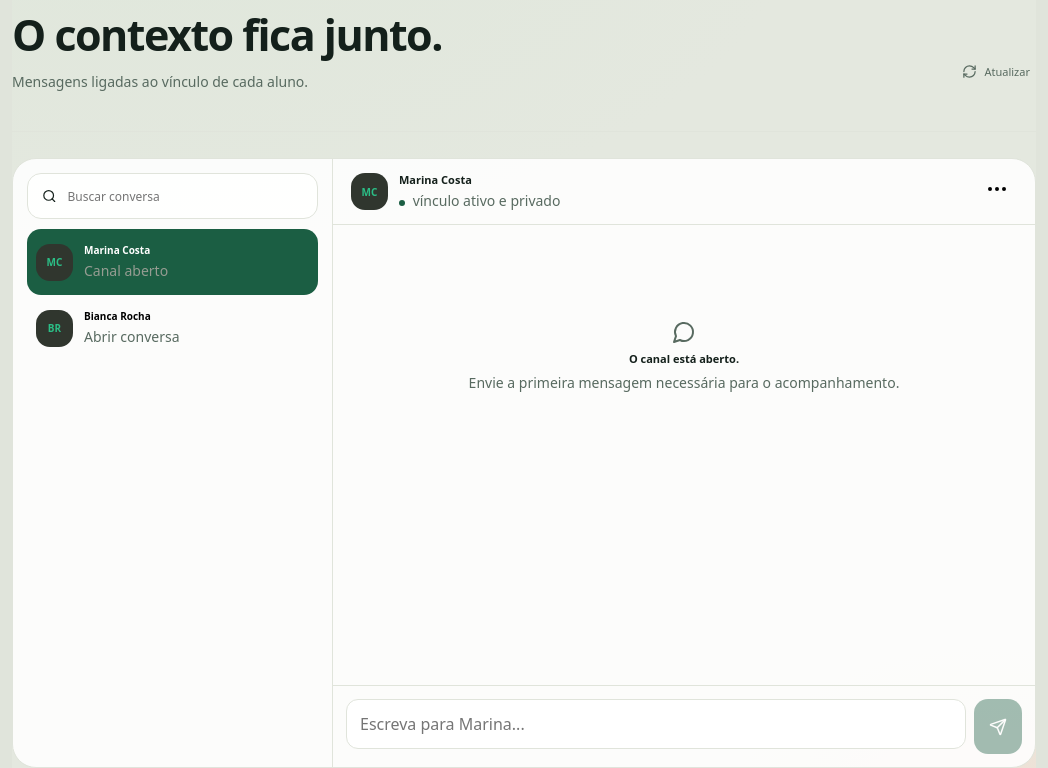
Scenario: live conversation recovery › locks every mutable conversation control while a send is pending
(page scrolled)
Step 1. Type "  Texto   com espaços  " into the text box named "Mensagem" → x=656, y=724, box [346,699,966,749]
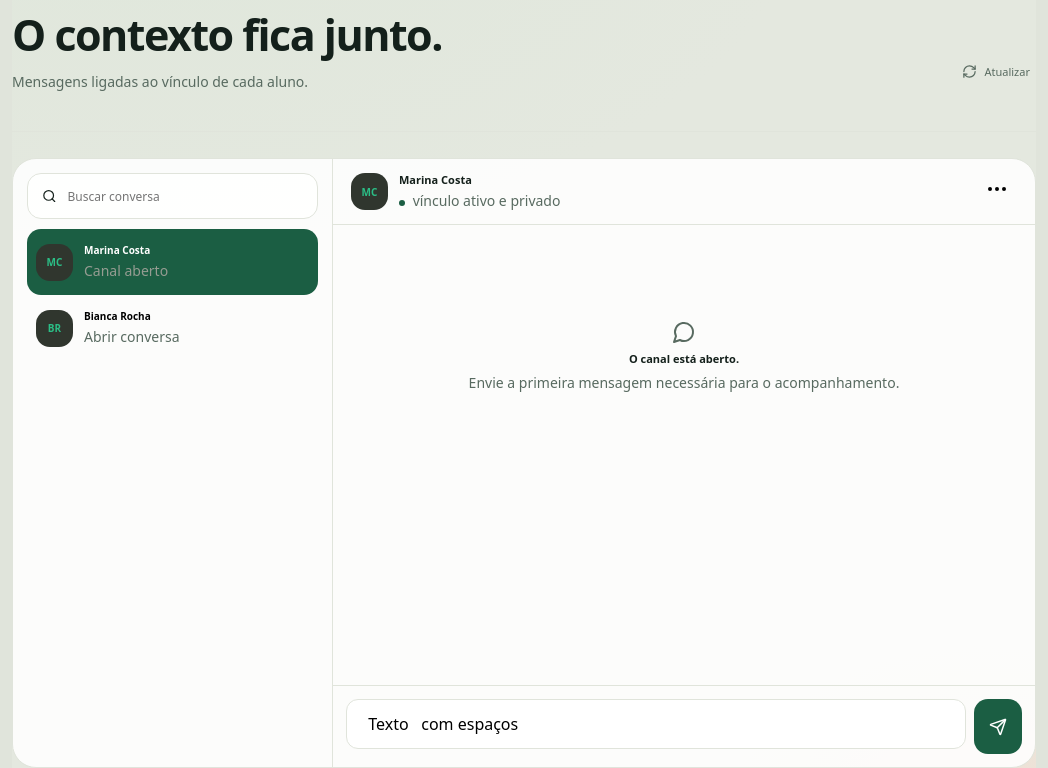
Step 2. Click the button named "Enviar mensagem" → x=998, y=726, box [974,699,1022,754]
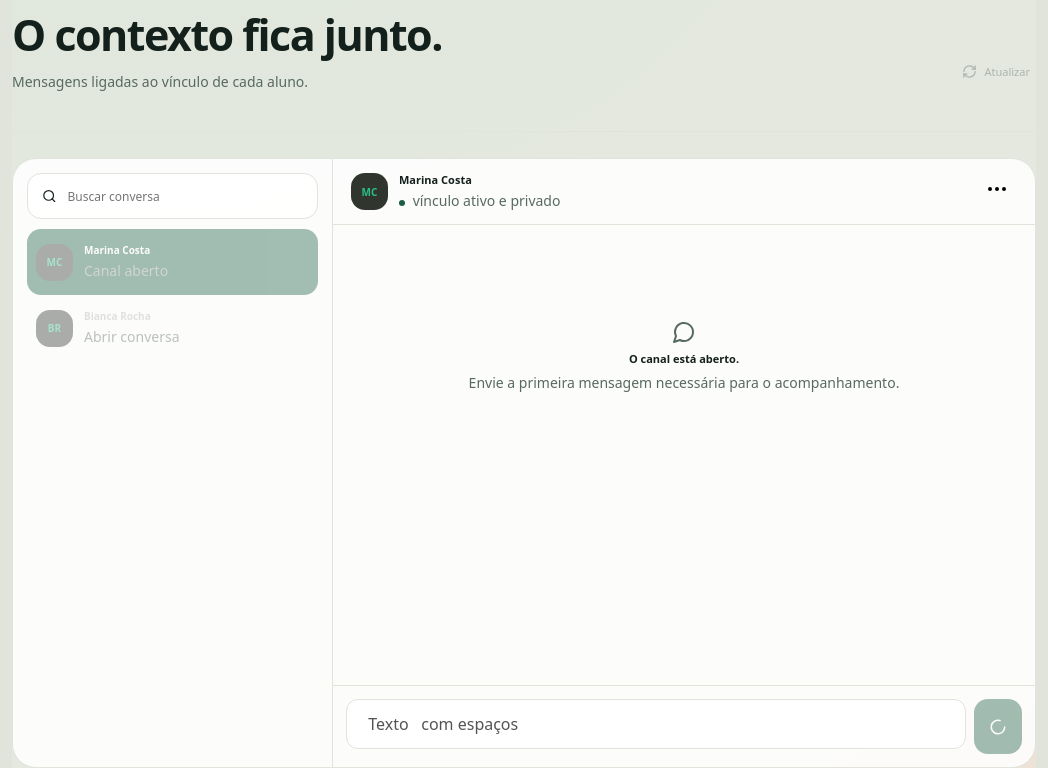
Now the text box named "Mensagem" is disabled, box [346,699,966,749]
Now the button "Atualizar" is disabled, box [956,49,1036,93]
Now the button "Marina Costa" is disabled, box [27,229,318,295]
Step 3. Click the button named "Enviar mensagem" → x=998, y=726, box [974,699,1022,754]
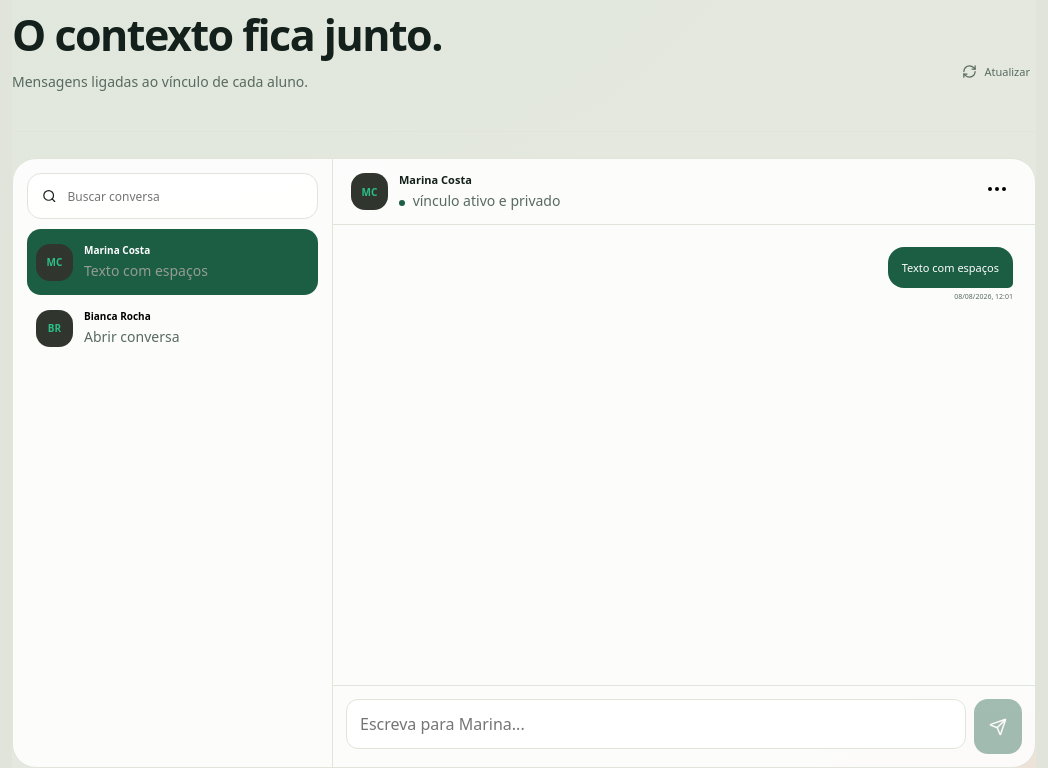
Now the 2nd text "Texto com espaços" is shown, box [888,247,1013,288]
Now the text box named "Mensagem" is enabled, box [346,699,966,749]
